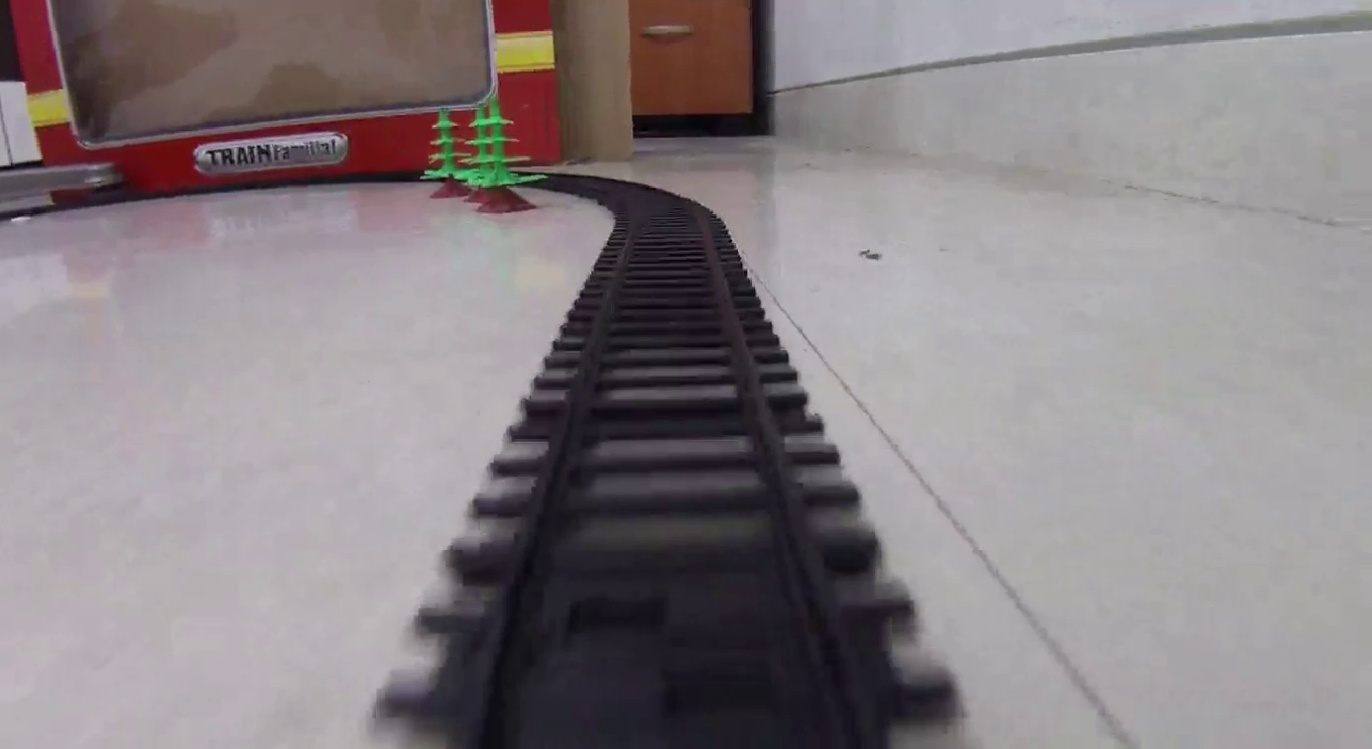tree: (472, 99, 542, 213), (422, 107, 470, 201)
